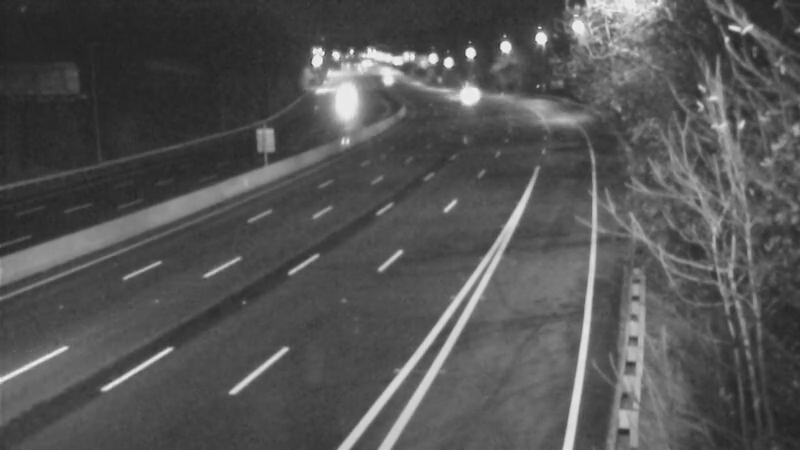vehicle: (361, 56, 411, 106), (442, 69, 492, 119), (318, 77, 368, 127)
